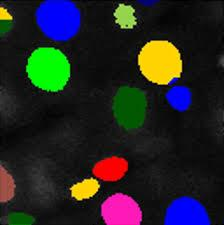cell: (137, 40, 182, 86), (25, 47, 72, 90), (113, 87, 149, 129), (99, 194, 143, 224), (164, 197, 211, 224), (94, 158, 128, 183), (70, 177, 100, 200), (167, 86, 192, 111), (115, 4, 139, 28), (0, 7, 14, 34), (9, 211, 34, 225)
